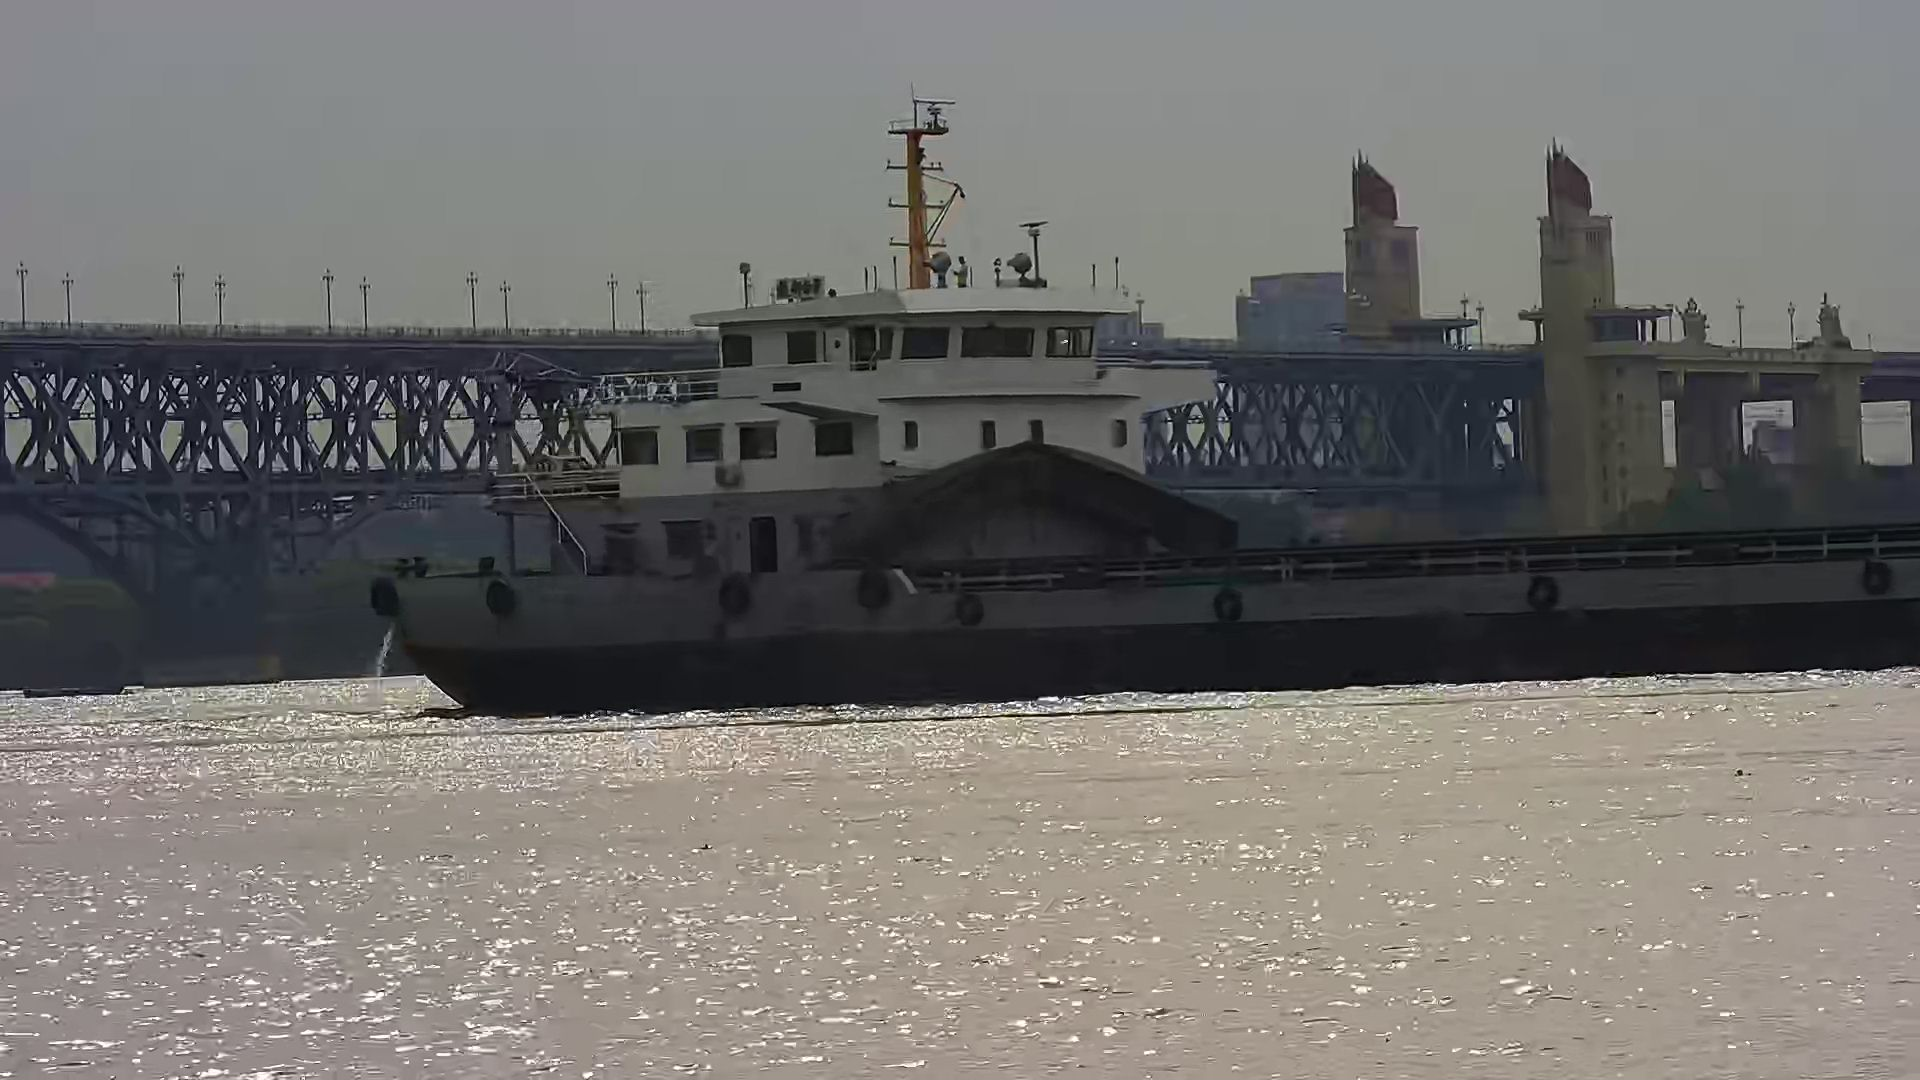boat: (15, 673, 132, 705)
bridge: (3, 248, 1501, 684)
ship: (375, 87, 1920, 724)
